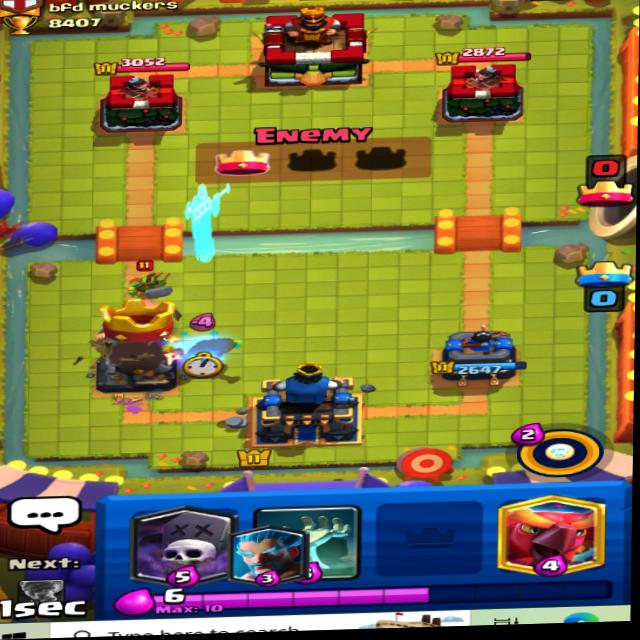Speargoblin: (118, 264, 175, 295)
